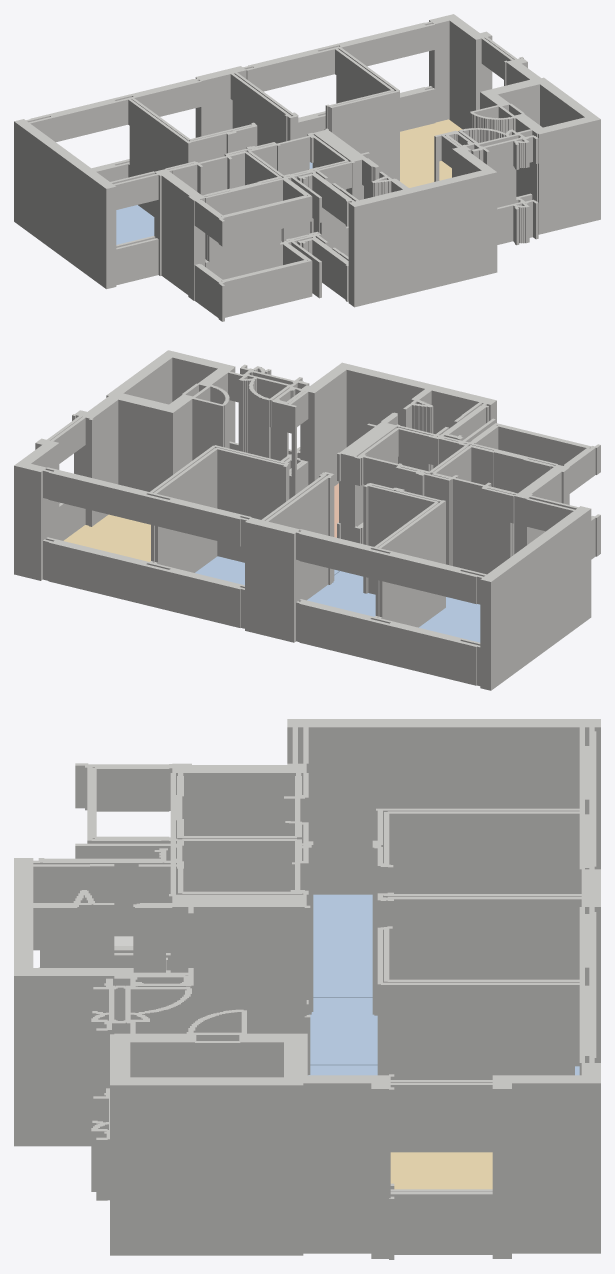
3 views of the same model, one above another, from view 1: azimuth 30°, elevation 25°; view 2: azimuth 150°, elevation 25°; view 3: azimuth 270°, elevation 25° (orthographic). The views are drawn at different scales.
Parts seen in each view (by area): view 1: walls, room:living:3, room:bedroom:0; view 2: walls, room:living:3, room:bedroom:1, room:bedroom:0, room:bedroom:2; view 3: walls, room:bedroom:0, room:bedroom:1, room:living:3, room:bedroom:2.
Part boxes in pixels (bbox=[...]): walls: bbox=[14, 14, 600, 321]; room:living:3: bbox=[400, 119, 462, 187]; room:bedroom:0: bbox=[116, 205, 154, 244]; walls: bbox=[14, 350, 600, 690]; room:living:3: bbox=[63, 514, 150, 561]; room:bedroom:1: bbox=[307, 571, 375, 616]; room:bedroom:0: bbox=[419, 597, 480, 642]; room:bedroom:2: bbox=[195, 556, 339, 585]; walls: bbox=[14, 719, 600, 1259]; room:bedroom:0: bbox=[313, 894, 372, 997]; room:bedroom:1: bbox=[309, 997, 377, 1065]; room:living:3: bbox=[390, 1152, 492, 1189]; room:bedroom:2: bbox=[308, 1065, 579, 1075].
Bounding box in the file's own units: 13.07 × 2.8 × 8.75.
